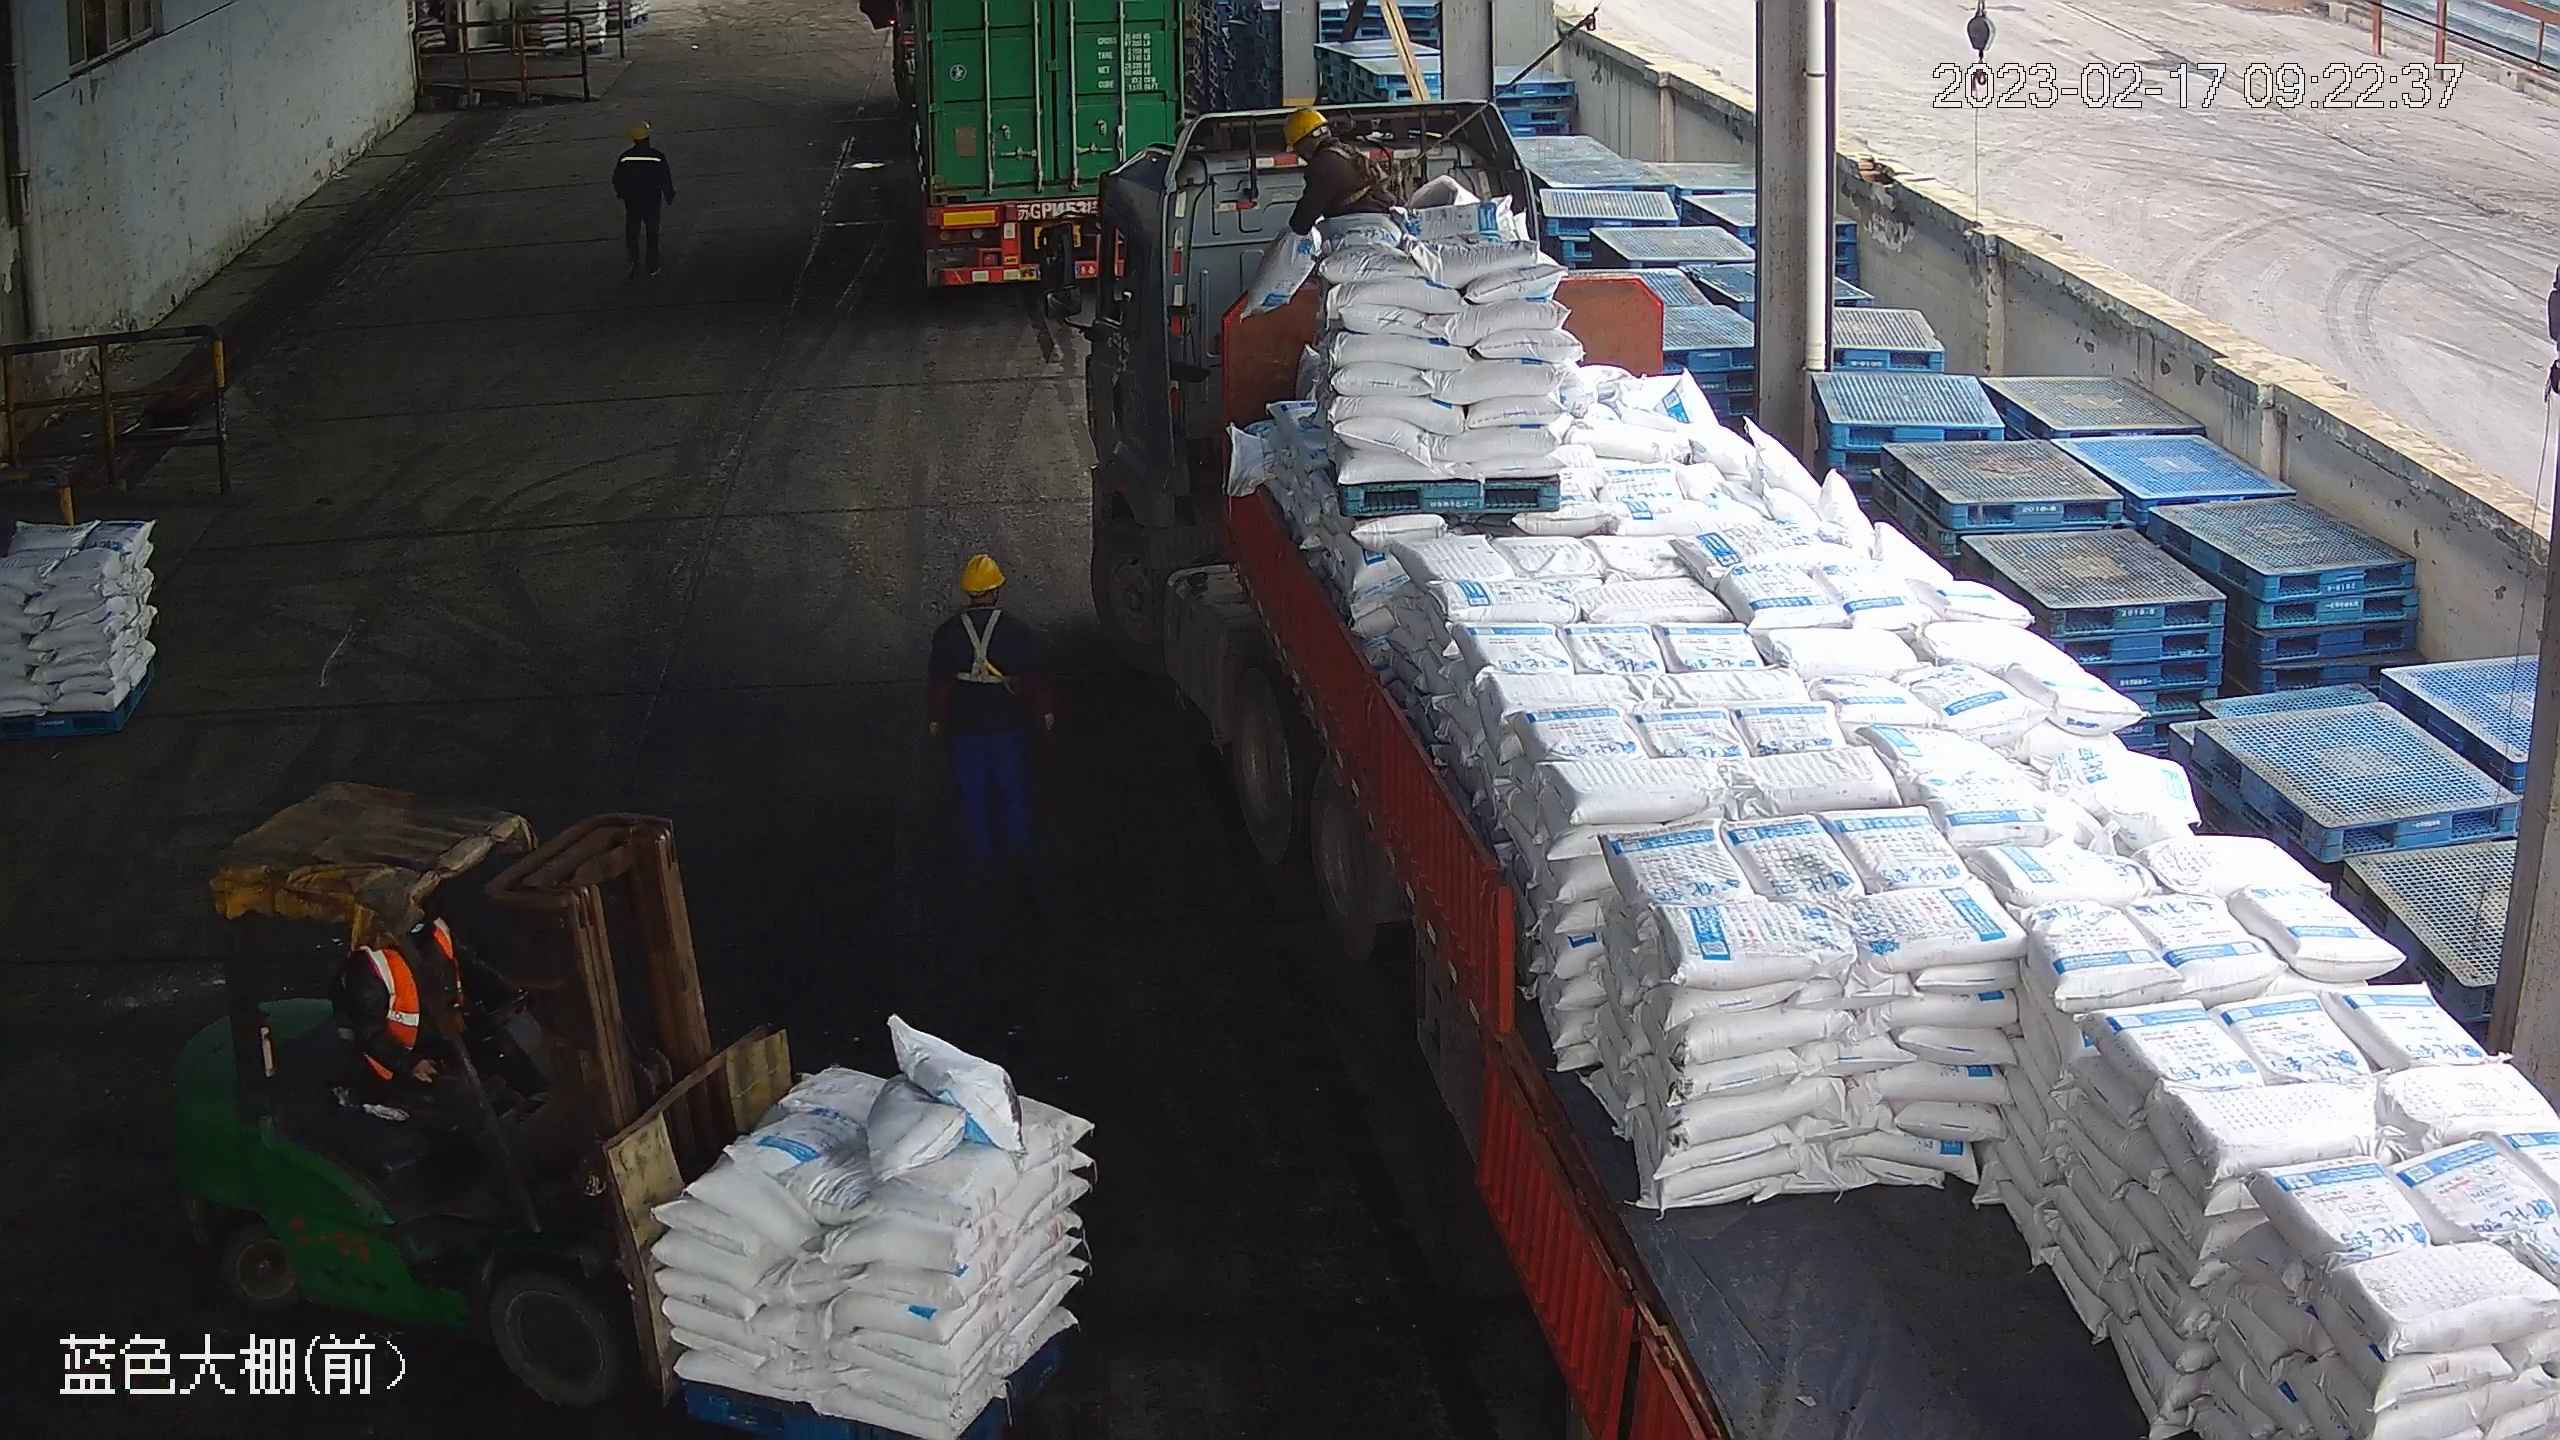belt: (944, 606, 1022, 688), (1332, 138, 1390, 202)
head: (932, 551, 1032, 659), (1283, 103, 1366, 181), (616, 119, 668, 163)
helmet: (958, 552, 1006, 590), (1283, 103, 1327, 144), (629, 120, 654, 141)
people: (924, 552, 1059, 869), (609, 119, 675, 274)
truck: (1038, 86, 2553, 1440), (884, 1, 1183, 290)
